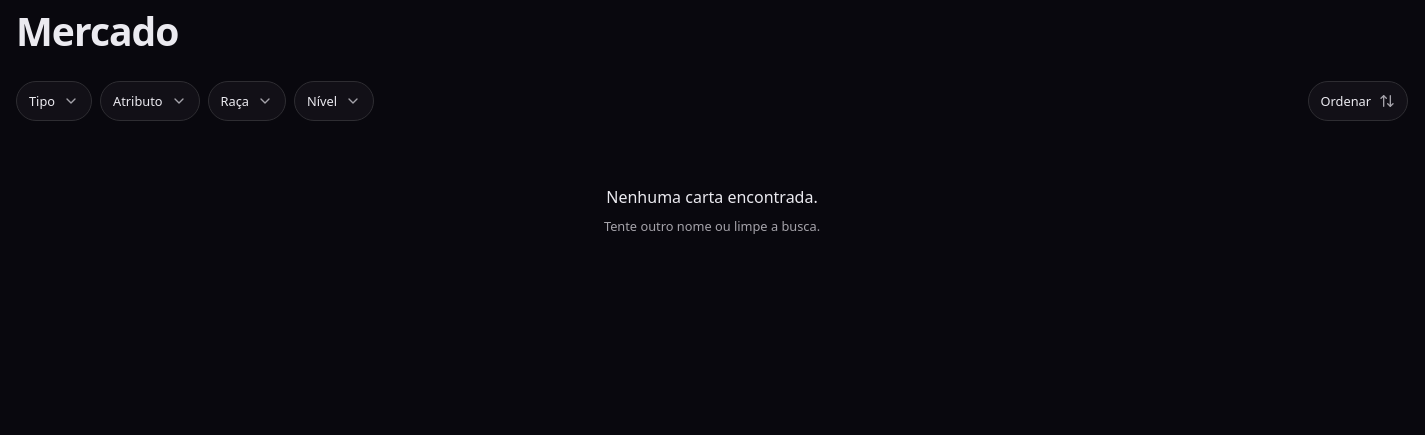
Test: MarketplacePage › should reset the filters and reuse the cached unfiltered list when cleared
Click the dropdown labelled "Atributo" at (150, 101), box 101,82 -> 198,120
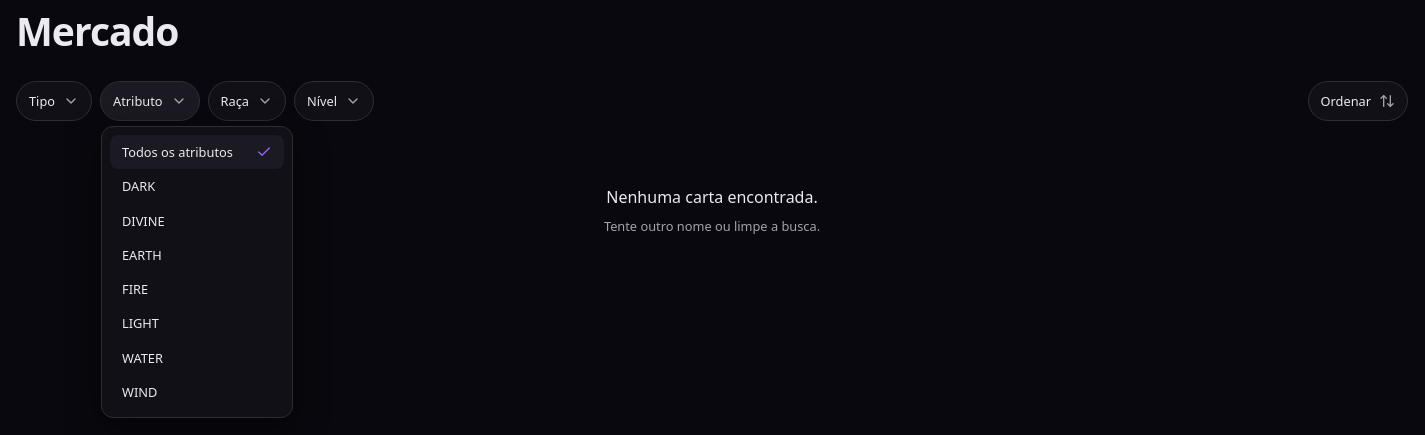
Click the option "WATER" at (142, 358), box 122,349 -> 163,367
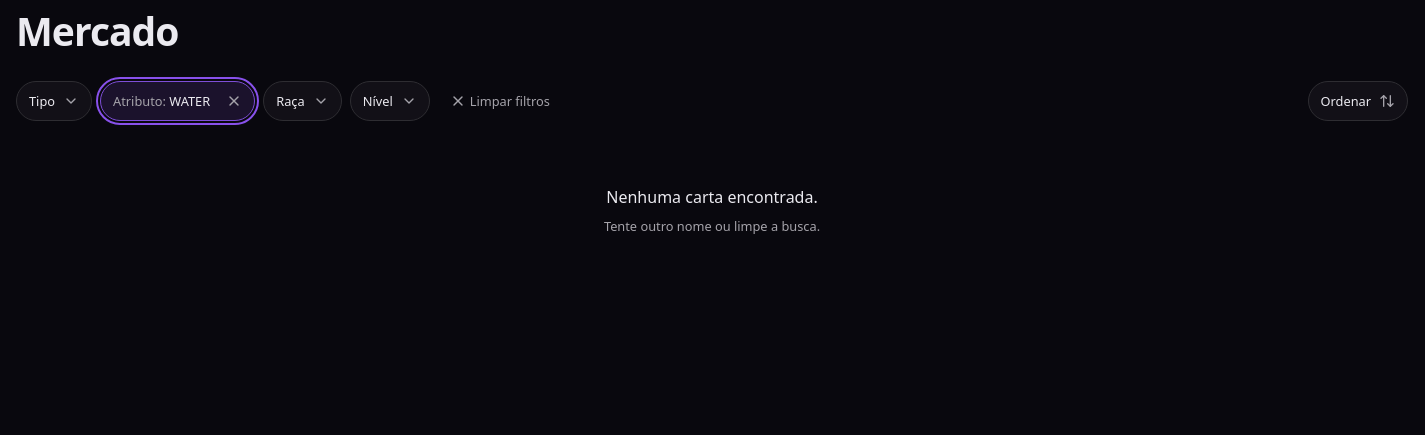
Click the button "Limpar filtros" at (500, 101), box 438,81 -> 562,121
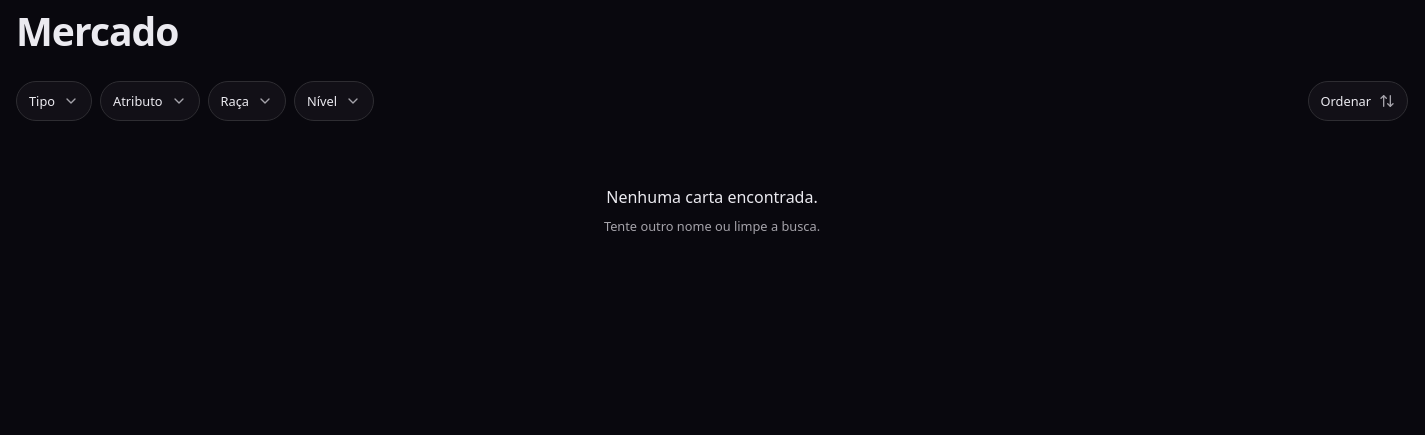
Expected: the dropdown labelled "Atributo" is shown, 101,82 -> 198,120
